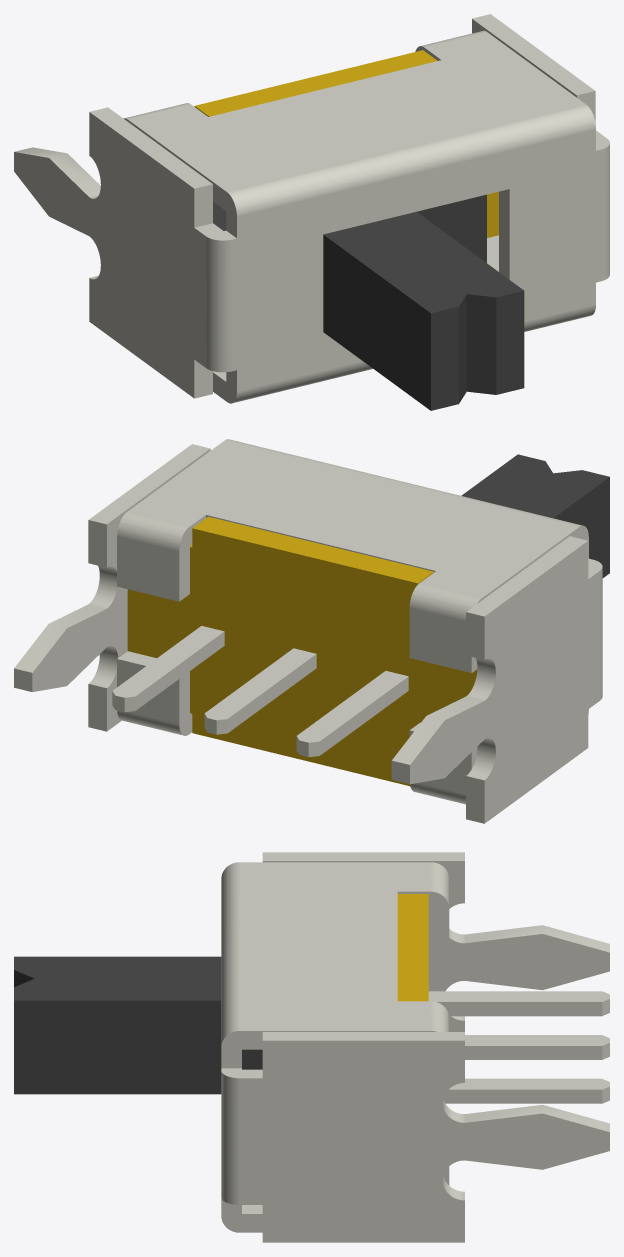
File: sw-slide-spdt-straight-ck-os102011ms2q.glb
The picture shows the model from 3 angles, top to bottom: view 1: azimuth 30°, elevation 25°; view 2: azimuth 150°, elevation 25°; view 3: azimuth 270°, elevation 25°; orthographic projection. The views are drawn at different scales.
Parts seen in each view (by area): view 1: PIN-01, CAP-CERAMIC-05, PLASTIC-YELLOW-01; view 2: PIN-01 (×3), PLASTIC-YELLOW-01, CAP-CERAMIC-05; view 3: PIN-01, CAP-CERAMIC-05, PLASTIC-YELLOW-01.
Part boxes in pixels (<box>): PIN-01: <box>14,14,609,403</box>; CAP-CERAMIC-05: <box>213,194,524,410</box>; PLASTIC-YELLOW-01: <box>194,50,498,237</box>; PIN-01 (×3): <box>14,439,602,823</box>; PLASTIC-YELLOW-01: <box>127,516,477,786</box>; CAP-CERAMIC-05: <box>461,454,609,577</box>; PIN-01: <box>221,852,609,1242</box>; CAP-CERAMIC-05: <box>14,956,262,1094</box>; PLASTIC-YELLOW-01: <box>397,894,428,1001</box>.
Size of the model in its own units: 8.6 by 4.3 by 11.5.
